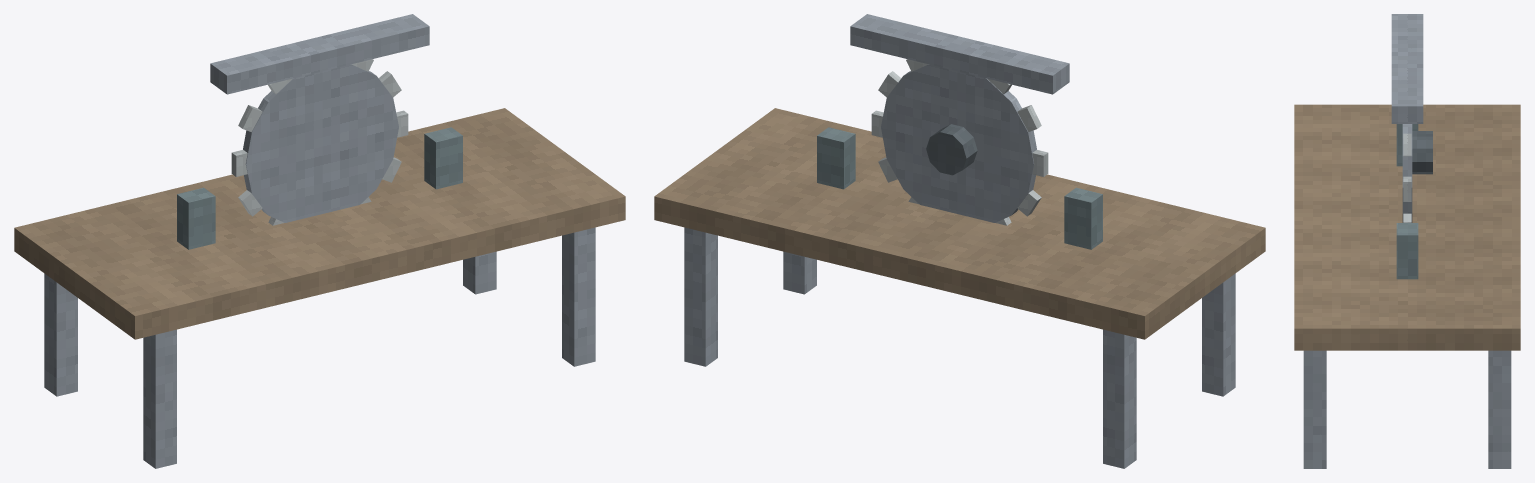
Rendered from level_blockout_refined_sawmill_guarded_blade_table.glb.
The picture shows the model from 3 angles, left to right: view 1: azimuth 30°, elevation 25°; view 2: azimuth 150°, elevation 25°; view 3: azimuth 270°, elevation 25°; orthographic projection. The views are drawn at different scales.
Visible parts, largest first — view 1: level_blockout_refined_sawmill_guarded_blade_table; view 2: level_blockout_refined_sawmill_guarded_blade_table; view 3: level_blockout_refined_sawmill_guarded_blade_table.
Part boxes in pixels (bbox=[...]): level_blockout_refined_sawmill_guarded_blade_table: bbox=[14, 14, 625, 468]; level_blockout_refined_sawmill_guarded_blade_table: bbox=[654, 14, 1265, 468]; level_blockout_refined_sawmill_guarded_blade_table: bbox=[1294, 14, 1520, 468].
Size of the model in its own units: 2.18 by 1.4 by 0.93.
Materials: 5 (5 with a texture image).
